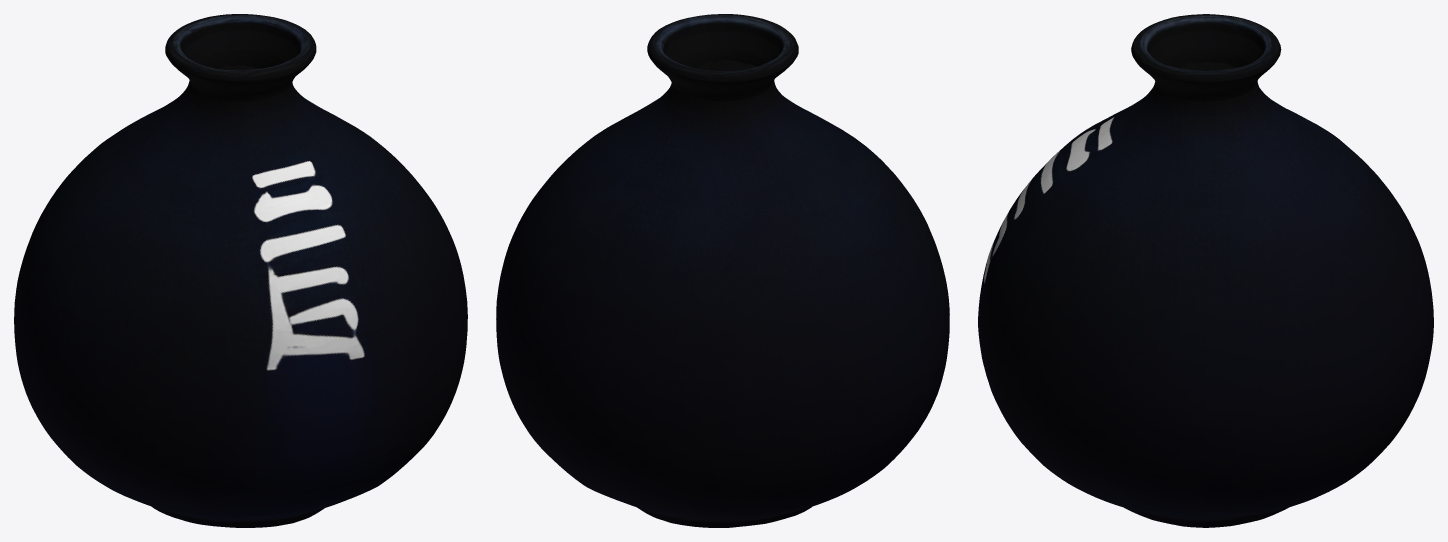
Rendered from vase2.obj.
3 renders of one model, left to right at view 1: azimuth 30°, elevation 25°; view 2: azimuth 150°, elevation 25°; view 3: azimuth 270°, elevation 25°, orthographic.
Parts seen in each view (by area): view 1: geometry_0; view 2: geometry_0; view 3: geometry_0.
Boxes of the visible parts, left/top/right/bottom form: geometry_0: left=14, top=14, right=467, bottom=527; geometry_0: left=496, top=14, right=949, bottom=527; geometry_0: left=978, top=14, right=1433, bottom=527.
Bounding box in the file's own units: 99.71 × 107 × 99.8.
